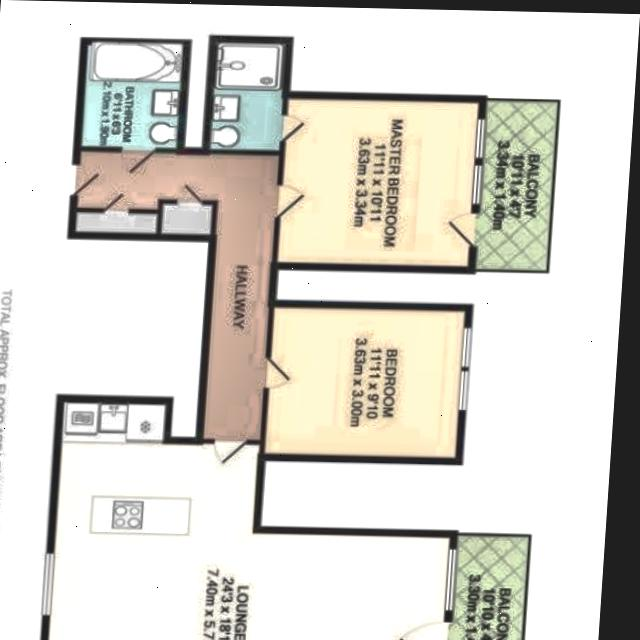room: (48, 404, 450, 640), (62, 144, 279, 442), (277, 99, 477, 265), (264, 308, 464, 457), (476, 98, 556, 273), (81, 39, 182, 152), (210, 40, 284, 153), (451, 533, 527, 640)
